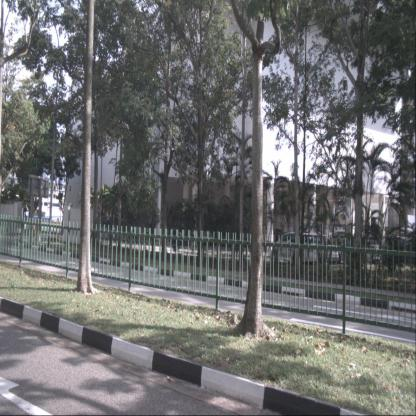human-pedestrian-adult: (276, 231, 280, 252), (244, 229, 247, 254), (278, 231, 282, 249)
vehicle-car: (271, 232, 318, 266), (302, 236, 339, 266), (334, 239, 370, 267), (355, 237, 381, 264)
